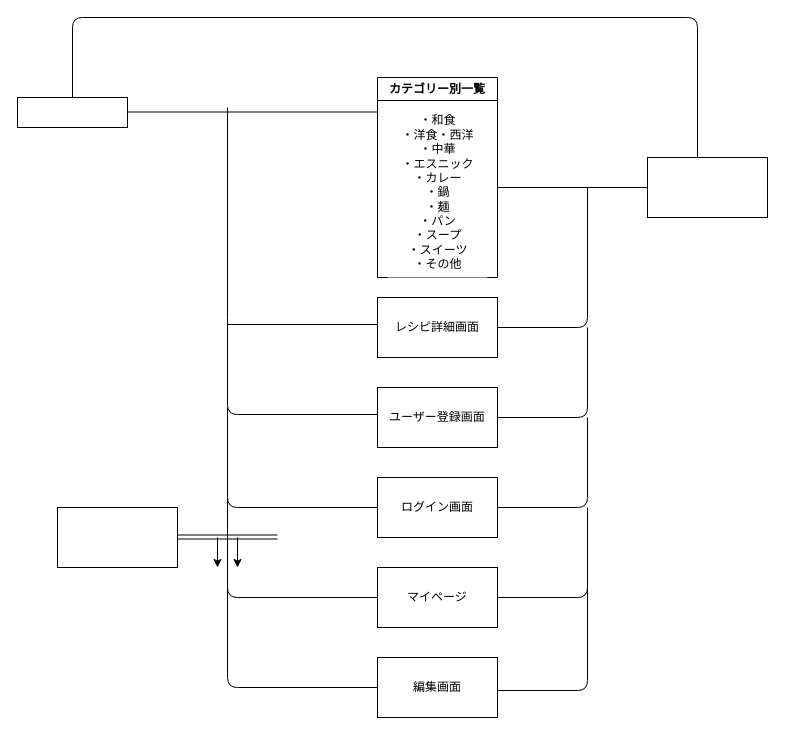
The diagram is 785 pixels wide and 735 high, and some of its shapes have lost their labels. The shapes that lost their labels are listed below. From the top down, each one's centre as x and y in pixels, then its label:
point 72,112: 一覧画面
point 707,187: 投稿画面
point 117,537: ログインまたは新規登録後
